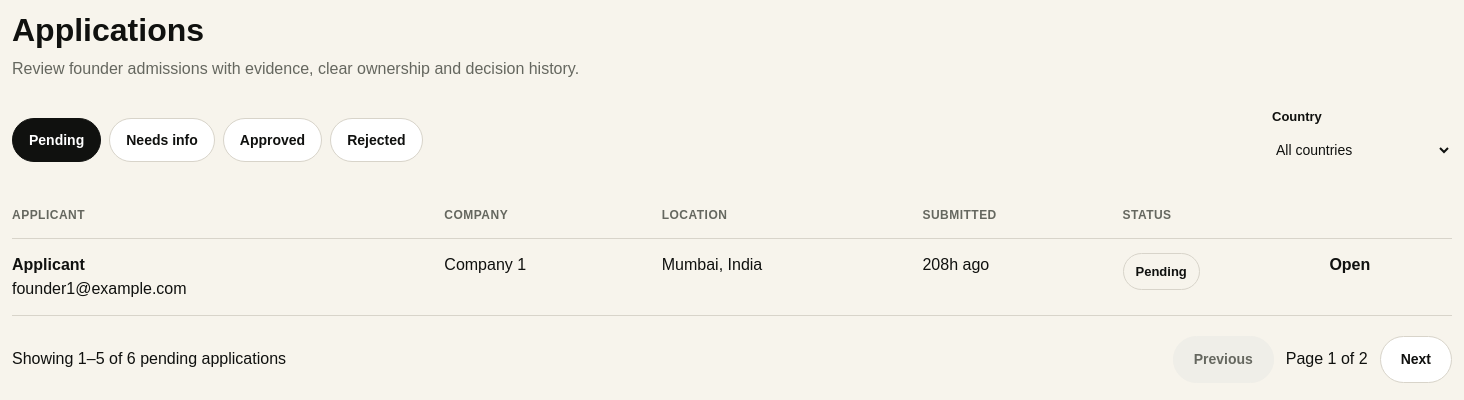
Test case: FC-008 admin application review UI › paginates the queue and supports keyboard tab activation
This screenshot has width=1464, height=400.
Expected: the text "Company 1" is shown, [444, 238, 662, 315]
Step 1. Click the button "Next" → (1416, 359), box [1380, 336, 1452, 383]
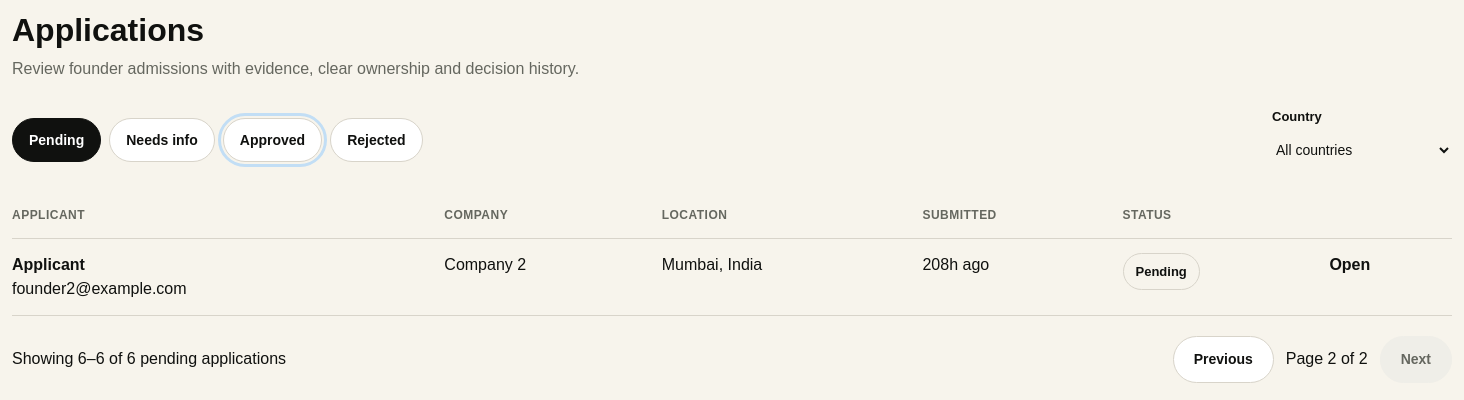
Result: the text "Company 2" is shown at [444, 238, 662, 315]
Step 2. Press Enter
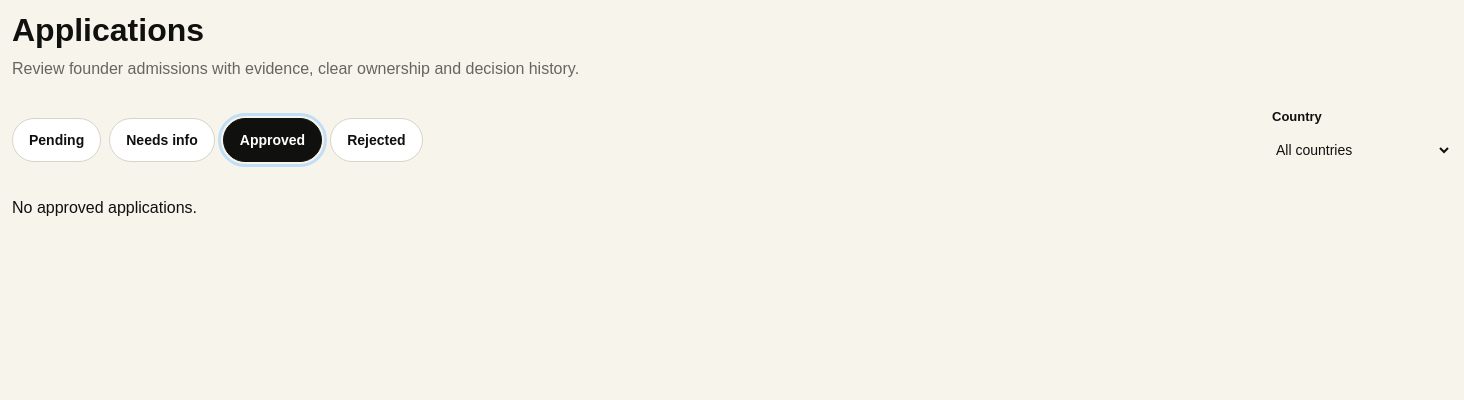
Result: the text "No approved applications." is shown at [12, 199, 197, 216]
